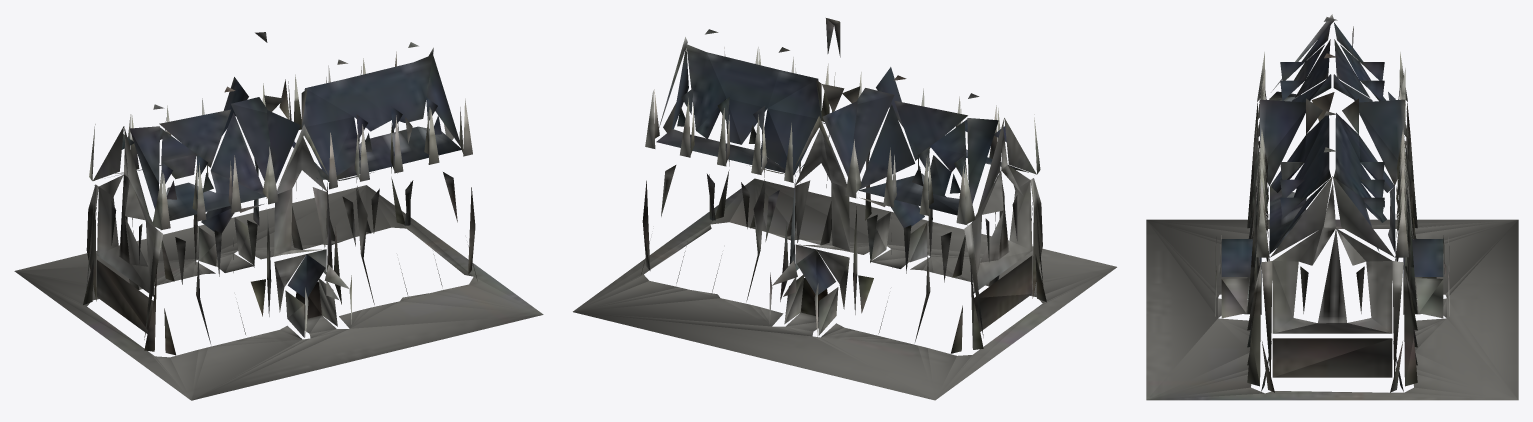
File: academy.glb
3 views of the same model, side by side, from view 1: azimuth 30°, elevation 25°; view 2: azimuth 150°, elevation 25°; view 3: azimuth 270°, elevation 25° (orthographic). The views are drawn at different scales.
Visible parts, largest first — view 1: tripo_node_14bc1180-cdf5-44e8-90d5-e20c3; view 2: tripo_node_14bc1180-cdf5-44e8-90d5-e20c3; view 3: tripo_node_14bc1180-cdf5-44e8-90d5-e20c3.
Part boxes in pixels (bbox=[...]): tripo_node_14bc1180-cdf5-44e8-90d5-e20c3: bbox=[14, 32, 543, 400]; tripo_node_14bc1180-cdf5-44e8-90d5-e20c3: bbox=[573, 18, 1116, 400]; tripo_node_14bc1180-cdf5-44e8-90d5-e20c3: bbox=[1146, 14, 1518, 400].
Bounding box in the file's own units: 37.08 × 27.8 × 32.29.
Materials: 1 (1 with a texture image).
